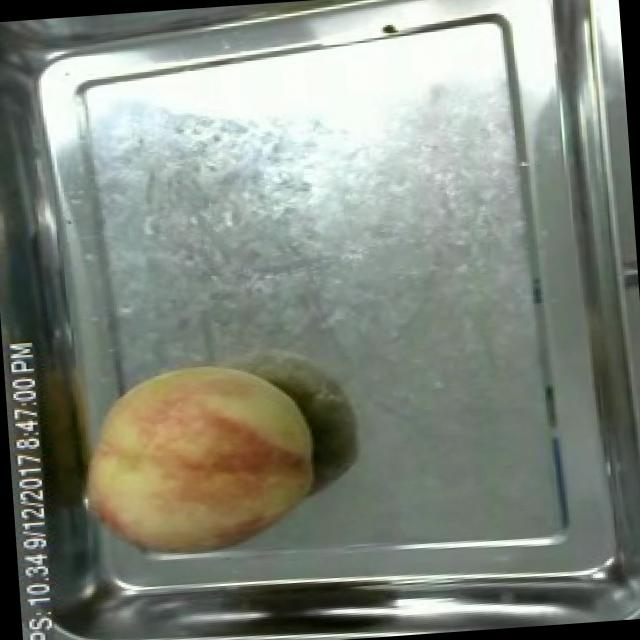Fruit: (65, 346, 326, 570)
